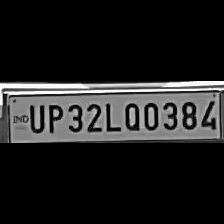0: (140, 99, 160, 130)
2: (84, 98, 104, 132)
3: (64, 99, 84, 133), (158, 98, 178, 130)
4: (198, 96, 218, 130)
8: (178, 96, 198, 130)
L: (102, 98, 120, 132)
P: (44, 100, 64, 134)
Q: (120, 99, 140, 131)
U: (24, 101, 43, 133)
